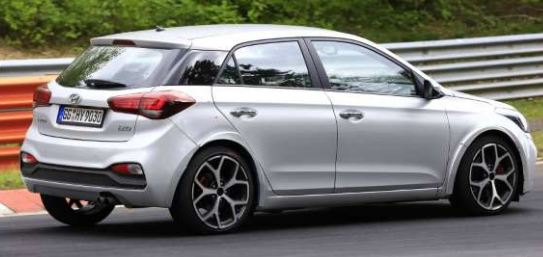car: (19, 23, 539, 239)
